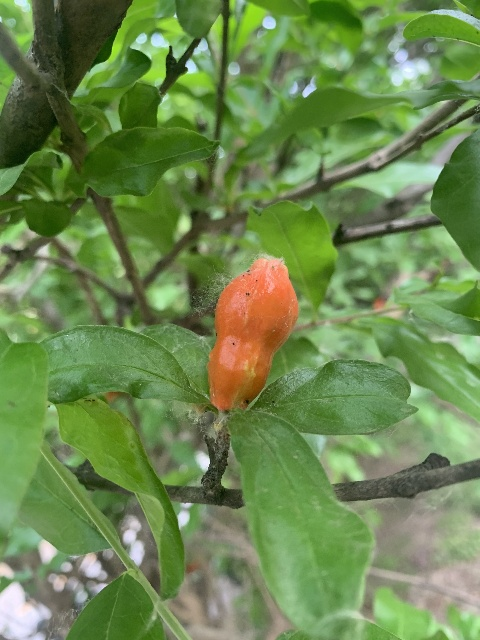bud: (207, 257, 298, 409)
